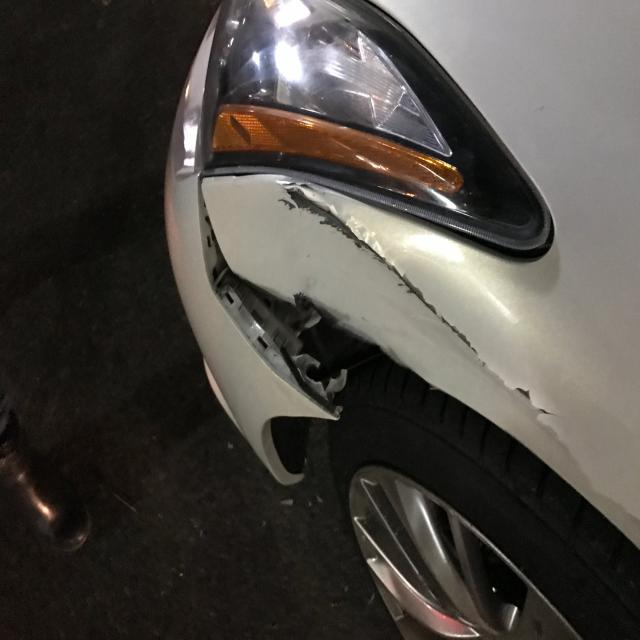crush: (198, 181, 634, 510)
